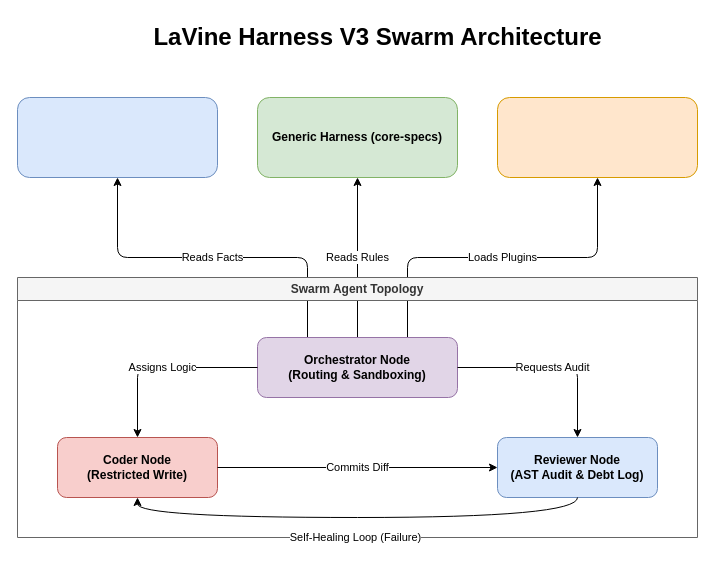
This 715x561 diagram has some shape labels left out. The shapes that lost their labels are listed below. From the top down, each one's box as (x1, y1, x2, y2) in pixels, then its label:
(16, 96, 218, 178): Project Profile (Knowledge Graph)
(496, 96, 698, 178): Skill Engine (Plugins & AST Hooks)
